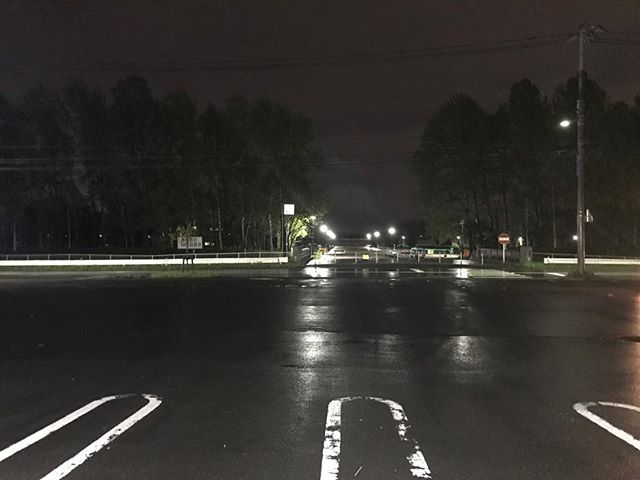sky: (1, 1, 640, 79), (327, 82, 423, 235)
street: (11, 264, 640, 468)
vegetation: (1, 88, 316, 250), (425, 90, 637, 251)
